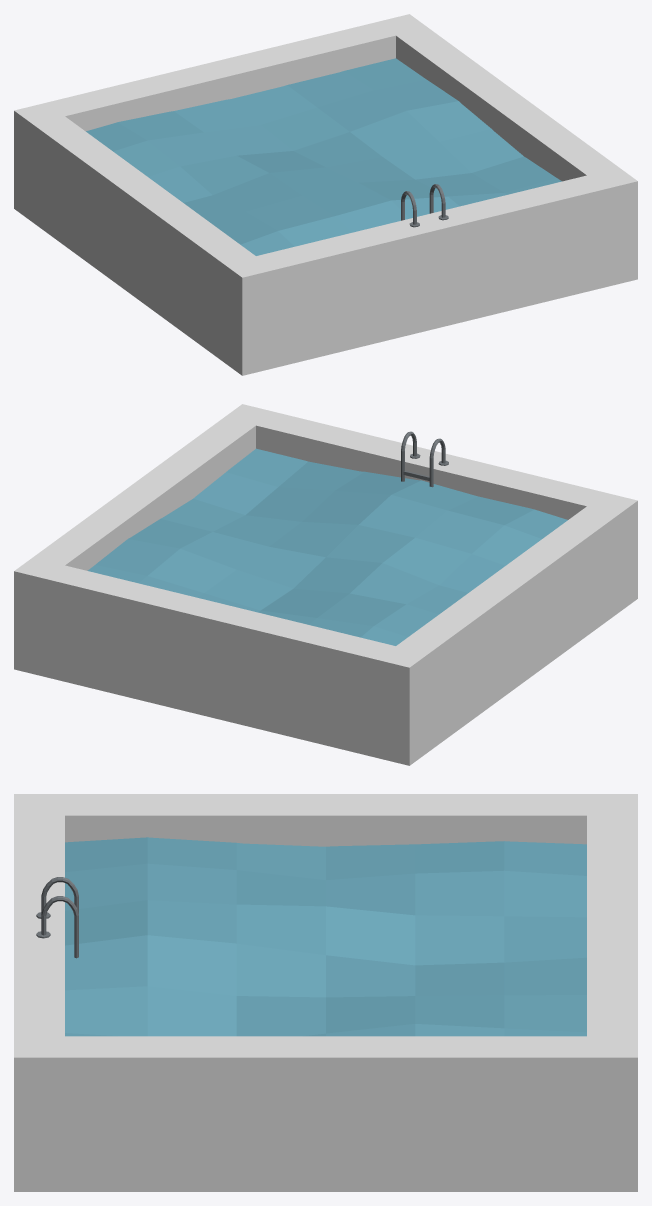
Rendered from Pool_02.fbx.
3 renders of one model, top to bottom at view 1: azimuth 30°, elevation 25°; view 2: azimuth 150°, elevation 25°; view 3: azimuth 270°, elevation 25°, orthographic. The views are drawn at different scales.
Visible parts, largest first — view 1: Pool_02; view 2: Pool_02; view 3: Pool_02.
Boxes of the visible parts, left/top/right/bottom form: Pool_02: left=14, top=14, right=637, bottom=375; Pool_02: left=14, top=404, right=637, bottom=765; Pool_02: left=14, top=794, right=637, bottom=1191.
Size of the model in its own units: 612 by 188 by 612.
